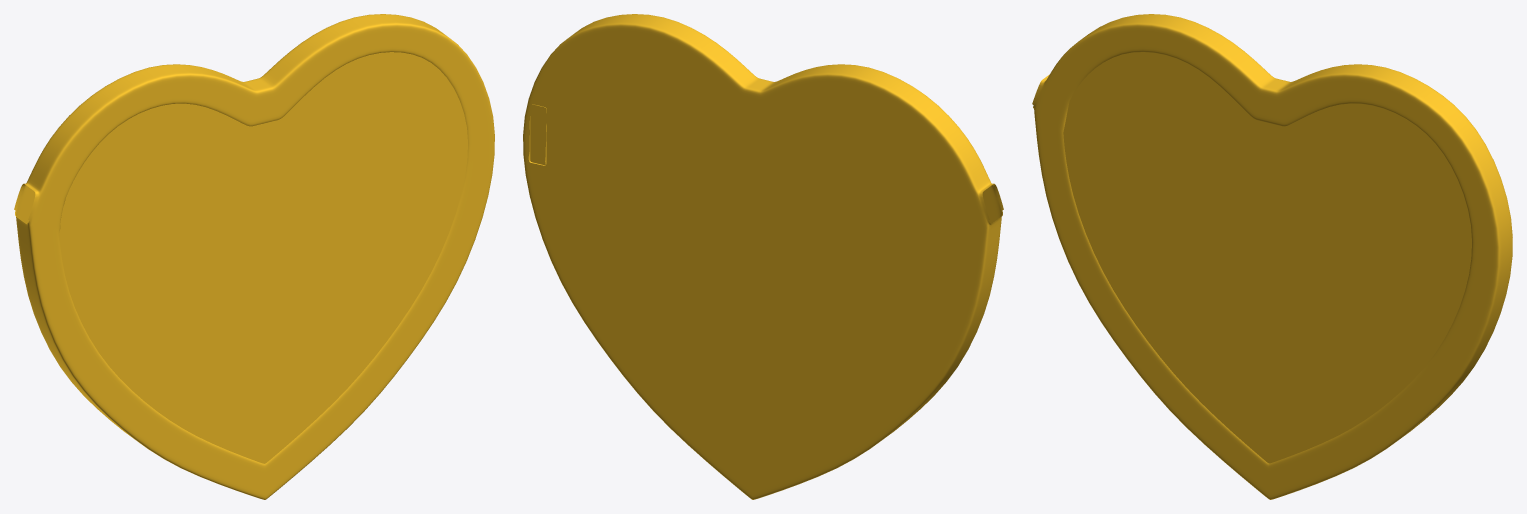
File: heartlenseleft.glb
The picture shows the model from 3 angles, left to right: view 1: azimuth 30°, elevation 25°; view 2: azimuth 150°, elevation 25°; view 3: azimuth 330°, elevation 25°; orthographic projection.
Parts seen in each view (by area): view 1: 17890_Heart_Glasses_v1_NEW.002; view 2: 17890_Heart_Glasses_v1_NEW.002; view 3: 17890_Heart_Glasses_v1_NEW.002.
Part boxes in pixels (x1,y1,x2,y2): 17890_Heart_Glasses_v1_NEW.002: (14,14,494,499); 17890_Heart_Glasses_v1_NEW.002: (523,14,1003,499); 17890_Heart_Glasses_v1_NEW.002: (1032,14,1512,499).
Bounding box in the file's own units: 1.47 × 1.35 × 0.0883.
